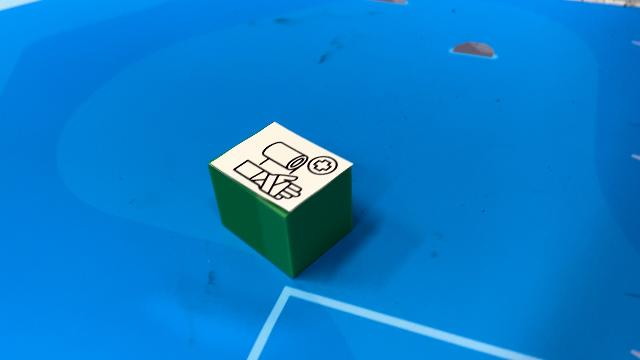bandage: (207, 119, 356, 279)
